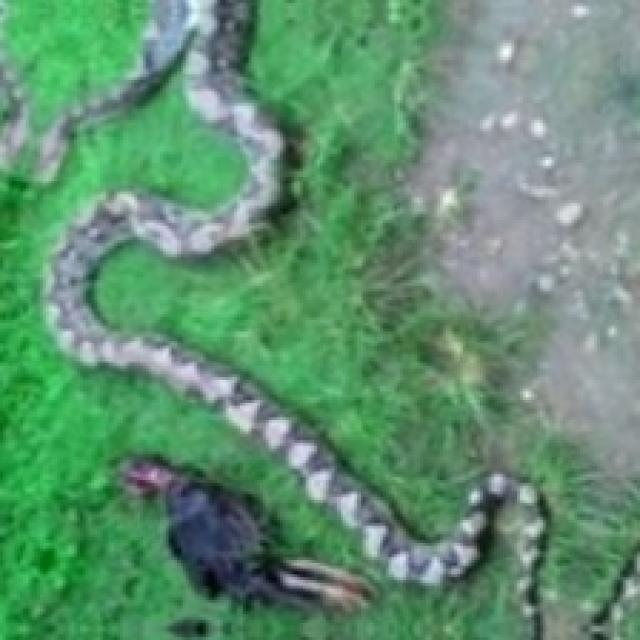reticulated python: (49, 0, 540, 623)
